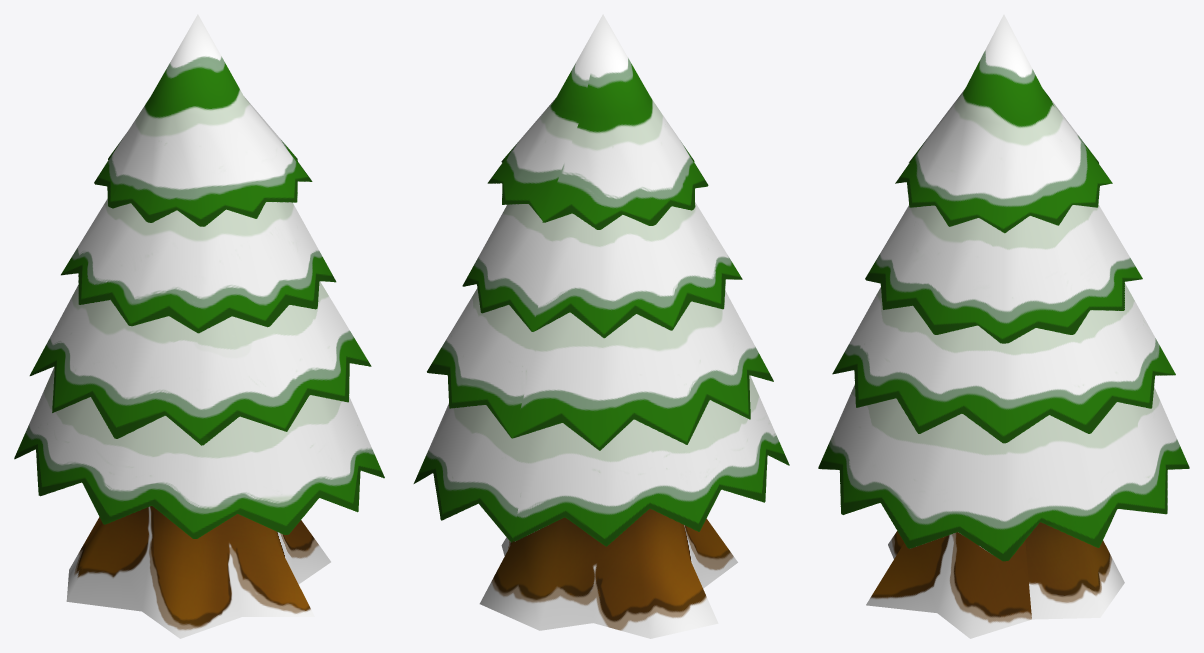
File: three.FBX
3 renders of one model, left to right at view 1: azimuth 30°, elevation 25°; view 2: azimuth 150°, elevation 25°; view 3: azimuth 270°, elevation 25°, orthographic.
Parts seen in each view (by area): view 1: Object001, Three; view 2: Object001, Three; view 3: Object001, Three.
Part boxes in pixels (x1,y1,x2,y2): Object001: [14, 14, 384, 538]; Three: [66, 506, 330, 638]; Object001: [413, 14, 789, 546]; Three: [479, 509, 737, 638]; Object001: [818, 14, 1189, 561]; Three: [866, 522, 1124, 638].
Bounding box in the file's own units: 56.6 × 94.88 × 56.3.
